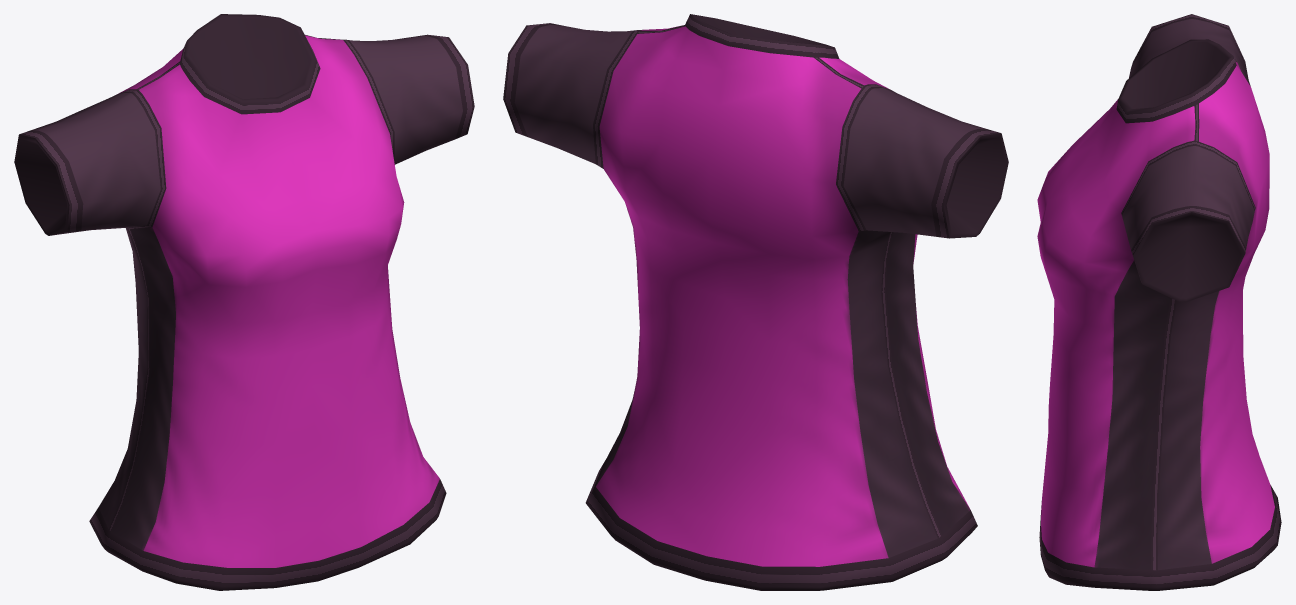
Rendered from female_tshirts1.glb.
The picture shows the model from 3 angles, left to right: view 1: azimuth 30°, elevation 25°; view 2: azimuth 150°, elevation 25°; view 3: azimuth 270°, elevation 25°; orthographic projection. The views are drawn at different scales.
Visible parts, largest first — view 1: node_id278; view 2: node_id278; view 3: node_id278.
Boxes of the visible parts, <box> form: node_id278: <box>14,14,474,590</box>; node_id278: <box>503,14,1008,590</box>; node_id278: <box>1037,14,1281,590</box>.
Size of the model in its own units: 0.4466 by 0.512 by 0.2326.
1 material, 1 textured.
